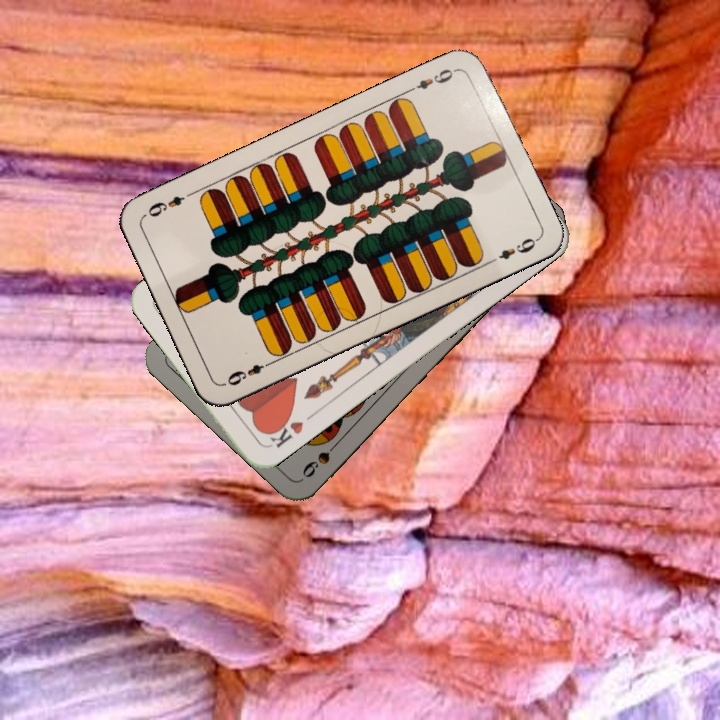E9: (222, 356, 276, 389), (404, 64, 460, 95)
HK: (262, 411, 306, 451)
S9: (298, 434, 345, 481)
